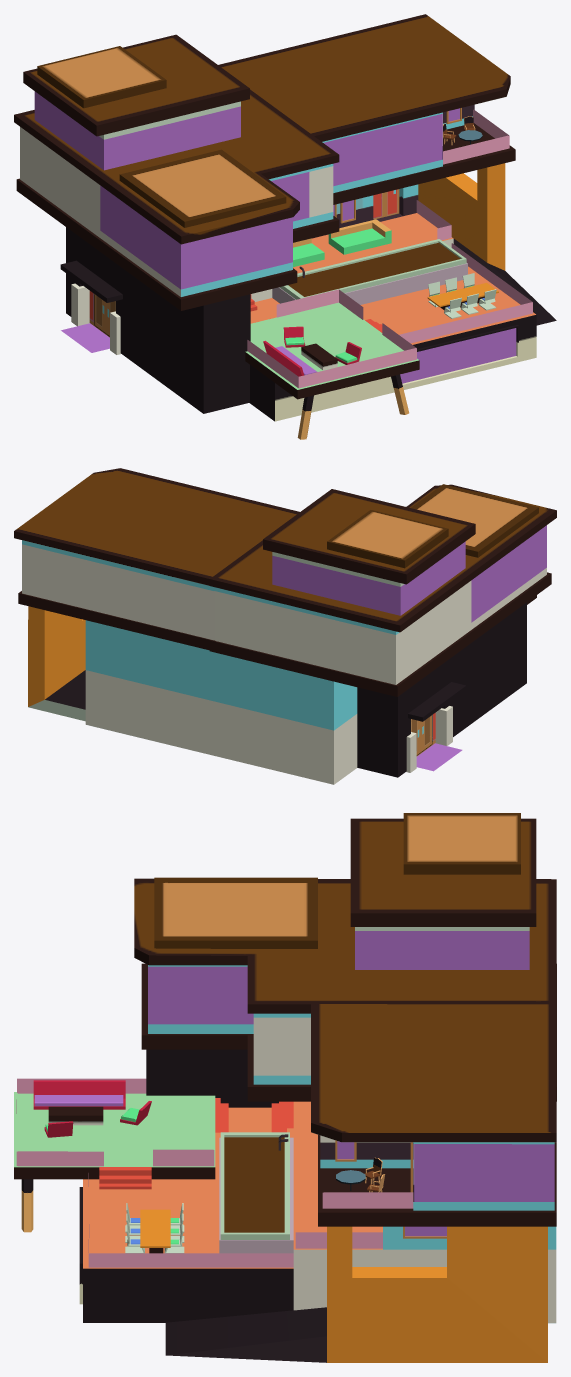
The model's file is Tx_Building_PH_7.fbx.
3 renders of one model, top to bottom at view 1: azimuth 30°, elevation 25°; view 2: azimuth 150°, elevation 25°; view 3: azimuth 270°, elevation 25°, orthographic. The views are drawn at different scales.
Visible parts, largest first — view 1: Building, swimming_pool, chair_table_set_right, sofa3, sofa4, sofa, table1; view 2: Building; view 3: Building, swimming_pool, sofa4, chair_table_set_right, table1.
Boxes of the visible parts, x1=… form: Building: x1=14, y1=14, x2=556, y2=439; swimming_pool: x1=279, y1=239, x2=466, y2=299; chair_table_set_right: x1=427, y1=273, x2=498, y2=318; sofa3: x1=328, y1=219, x2=391, y2=254; sofa4: x1=263, y1=340, x2=316, y2=376; sofa: x1=293, y1=238, x2=324, y2=267; table1: x1=301, y1=343, x2=337, y2=370; Building: x1=14, y1=468, x2=556, y2=784; Building: x1=14, y1=813, x2=556, y2=1362; swimming_pool: x1=220, y1=1132, x2=289, y2=1239; sofa4: x1=33, y1=1080, x2=125, y2=1109; chair_table_set_right: x1=125, y1=1203, x2=184, y2=1253; table1: x1=48, y1=1106, x2=103, y2=1125.
Size of the model in its own units: 59.75 by 34.11 by 54.
